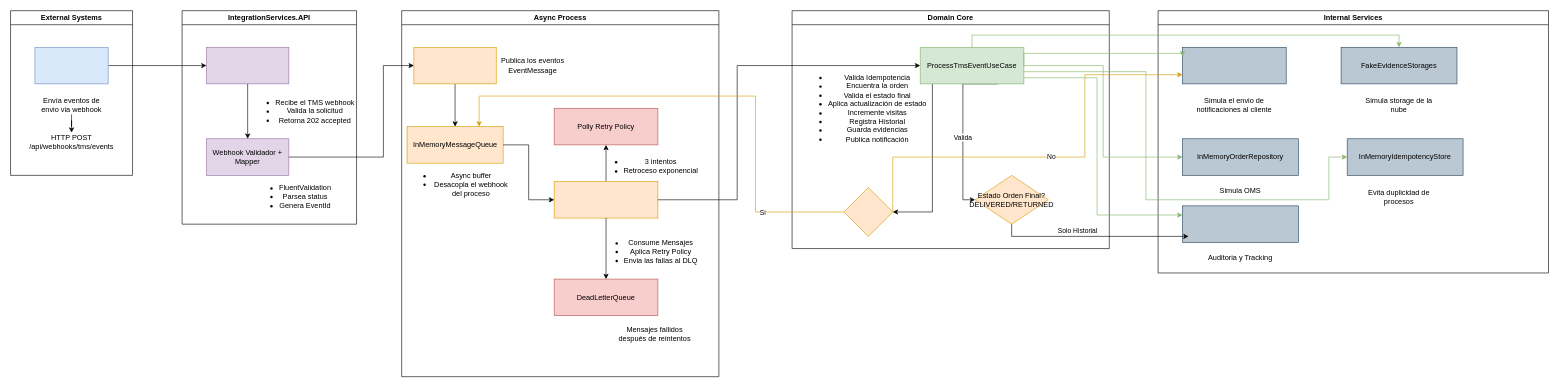
Image size: 1560x387. Some labels were removed from this diagram. Here are the shapes that lost their labels. From the top down, the centre of each, then its label:
(71,65): External TMS
(247,65): TmsWebhookController
(454,65): InMemoryMessageBus
(1234,65): ConsoleNotificationPublisher
(606,199): TmsEventBackgroundWorker
(868,211): Visit Counter = 3?
(1240,223): InMemoryOrderHistoryRepository
